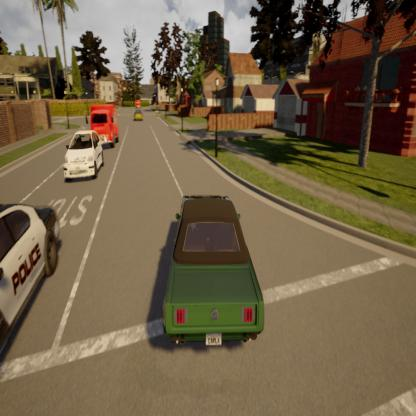Cars: (141, 185, 266, 358), (0, 195, 63, 380), (61, 129, 106, 183), (88, 101, 120, 150), (132, 108, 147, 122)
